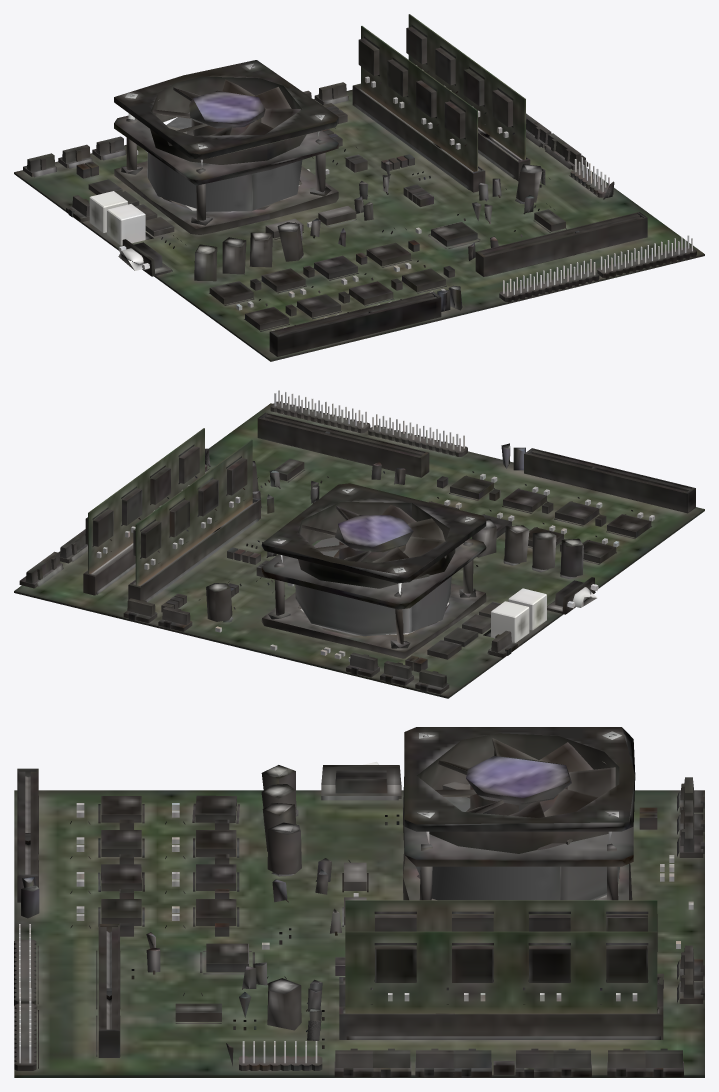
File: circuit_board.glb
3 views of the same model, one above another, from view 1: azimuth 30°, elevation 25°; view 2: azimuth 150°, elevation 25°; view 3: azimuth 270°, elevation 25° (orthographic). The views are drawn at different scales.
Visible parts, largest first — view 1: circuit_board; view 2: circuit_board; view 3: circuit_board.
Boxes of the visible parts, box(x1,y1,x2,y2) form: circuit_board: box(14, 14, 704, 361); circuit_board: box(14, 390, 704, 698); circuit_board: box(14, 727, 704, 1077).
Size of the model in its own units: 0.4035 by 0.0775 by 0.3974.
2 materials, 2 textured.
